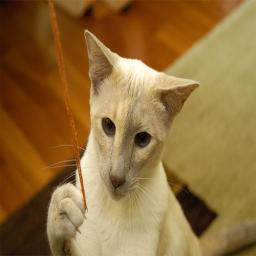catnose: (109, 173, 126, 188)
